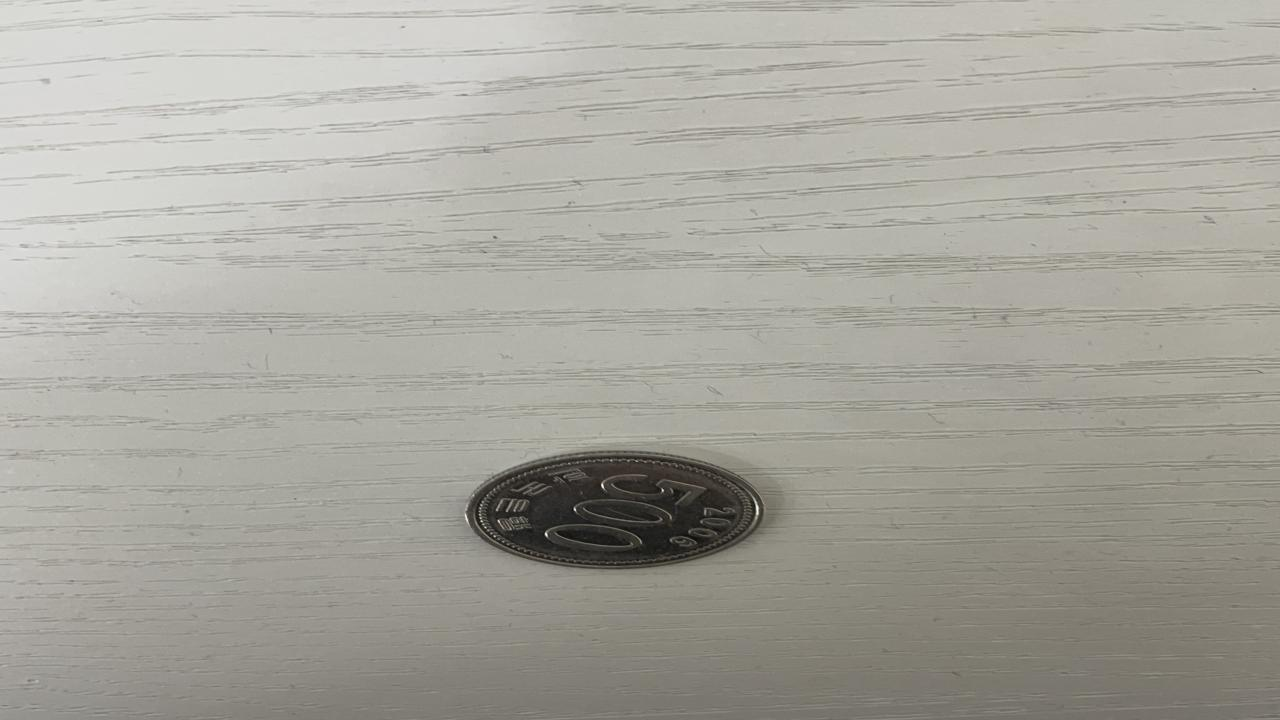coin: (456, 448, 772, 571)
